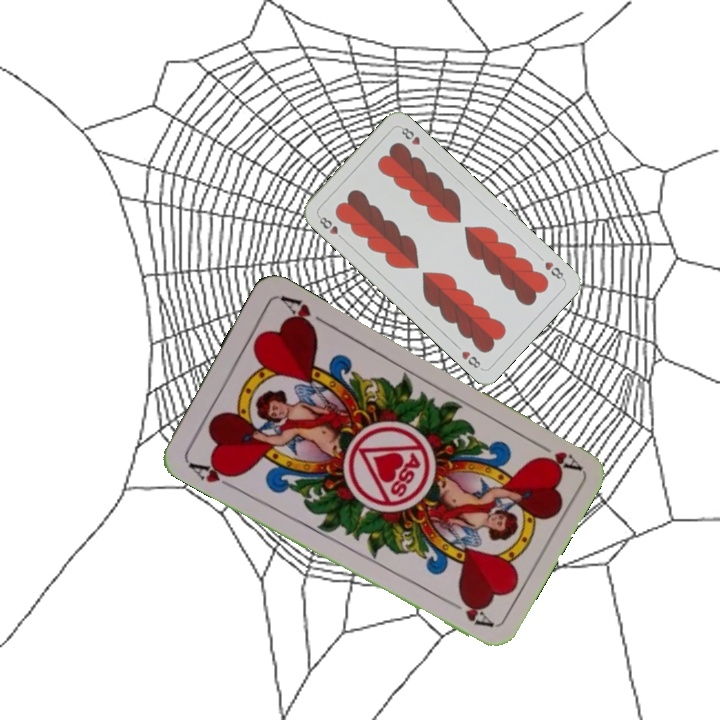H8: (314, 211, 347, 243), (541, 257, 567, 283)
HA: (528, 436, 582, 475), (182, 456, 239, 492)
